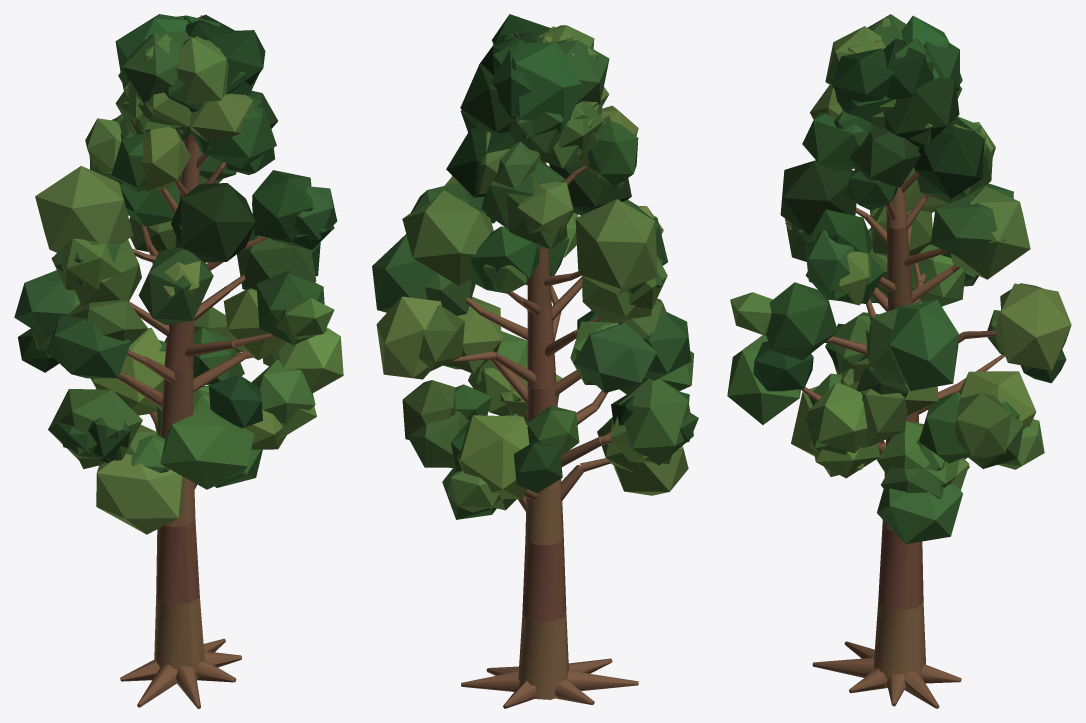
The model's file is tree_normal_large_redwood_a.glb.
The picture shows the model from 3 angles, left to right: view 1: azimuth 30°, elevation 25°; view 2: azimuth 150°, elevation 25°; view 3: azimuth 270°, elevation 25°; orthographic projection.
Parts seen in each view (by area): view 1: leaves, wood; view 2: leaves, wood; view 3: leaves, wood.
Part boxes in pixels (x1,y1,x2,y2): leaves: (14, 14, 343, 534); wood: (117, 15, 275, 708); leaves: (372, 14, 698, 519); wood: (449, 32, 638, 708); leaves: (727, 14, 1071, 544); wood: (800, 40, 1005, 708).
Size of the model in its own units: 10.44 by 22.58 by 10.7.
